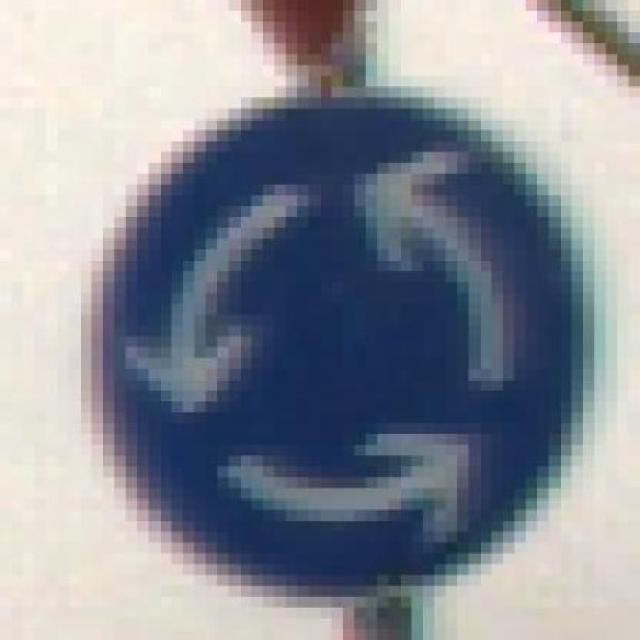Round-About: (80, 86, 617, 597)
